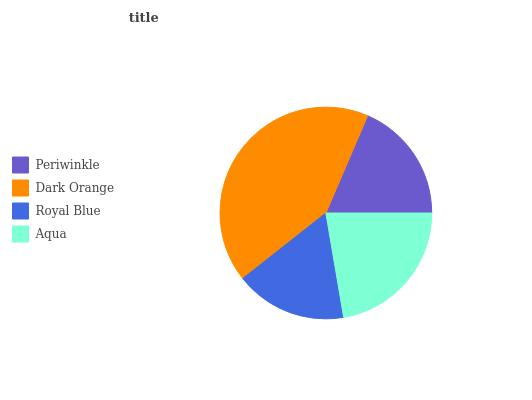legend: (0, 148, 134, 258)
sector: (217, 107, 369, 278), (239, 212, 343, 320), (325, 212, 430, 318), (327, 114, 432, 213)
